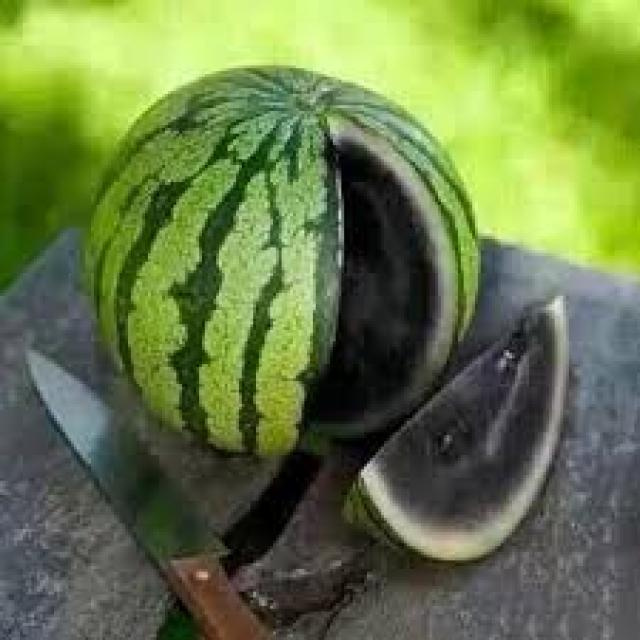watermelon: (80, 63, 480, 458), (342, 292, 578, 562)
